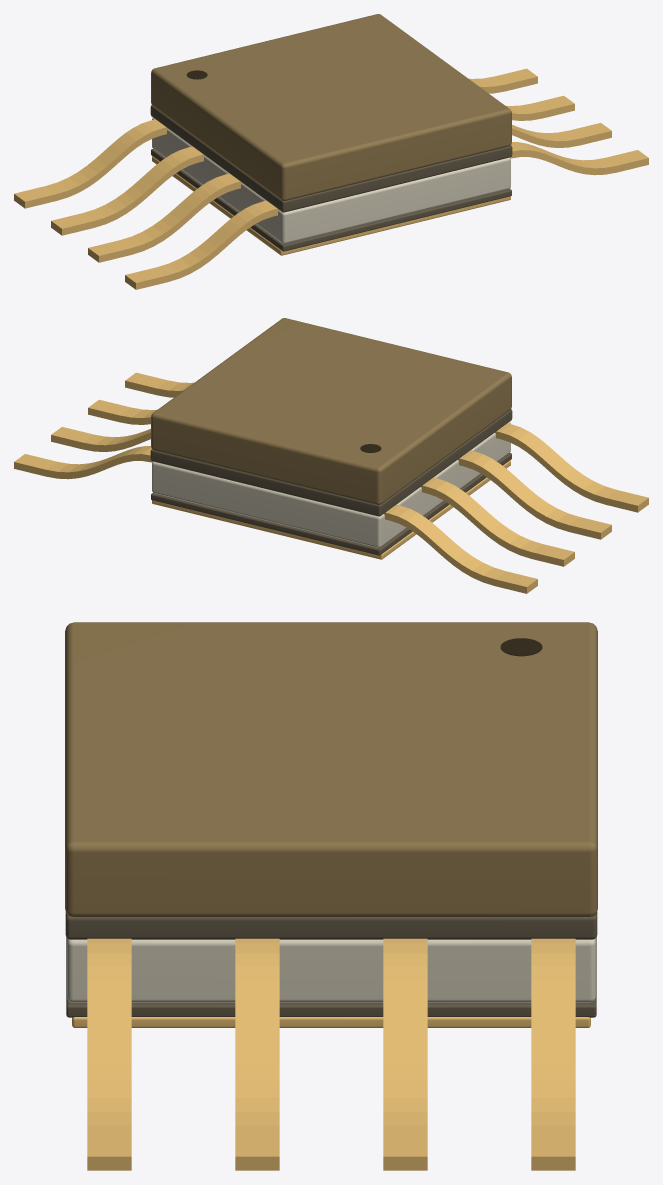
The model's file is SOP-8-XX112.glb.
3 renders of one model, top to bottom at view 1: azimuth 30°, elevation 25°; view 2: azimuth 150°, elevation 25°; view 3: azimuth 270°, elevation 25°, orthographic. The views are drawn at different scales.
Parts seen in each view (by area): view 1: Lid, Eight formed gull-wing leads, Feedthrough body, Seal rim, Package base, Exposed ground; view 2: Lid, Eight formed gull-wing leads, Feedthrough body, Seal rim, Package base, Exposed ground; view 3: Lid, Eight formed gull-wing leads, Feedthrough body, Seal rim, Package base, Exposed ground.
Part boxes in pixels (<box>): Lid: <box>151,14,511,200</box>; Eight formed gull-wing leads: <box>14,68,648,289</box>; Feedthrough body: <box>152,117,510,243</box>; Seal rim: <box>150,105,512,212</box>; Package base: <box>151,149,511,251</box>; Exposed ground: <box>152,156,510,255</box>; Lid: <box>151,318,511,504</box>; Eight formed gull-wing leads: <box>14,372,648,593</box>; Feedthrough body: <box>152,421,510,547</box>; Seal rim: <box>150,409,512,516</box>; Package base: <box>151,453,511,555</box>; Exposed ground: <box>152,460,510,559</box>; Lid: <box>65,622,597,916</box>; Eight formed gull-wing leads: <box>87,938,575,1170</box>; Feedthrough body: <box>67,938,595,1002</box>; Seal rim: <box>65,912,597,939</box>; Package base: <box>66,937,596,1017</box>; Exposed ground: <box>72,1017,590,1027</box>.
Bounding box in the file's own units: 0.0102 × 0.00178 × 0.00457.
